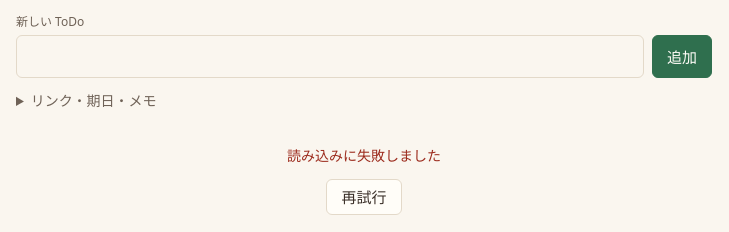
Scenario: Home › shows empty and error states and recovers with retry
Click the button "再試行" at [364, 197], box [326,179,402,215]
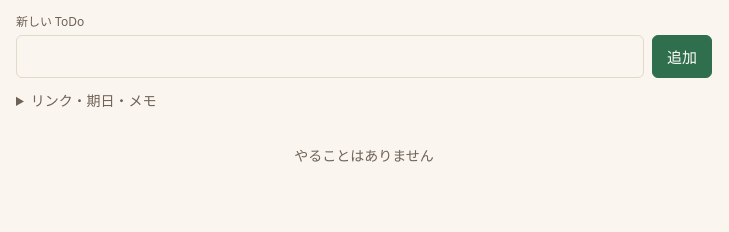
Now the text "やることはありません" is shown, box [294,146,434,165]
